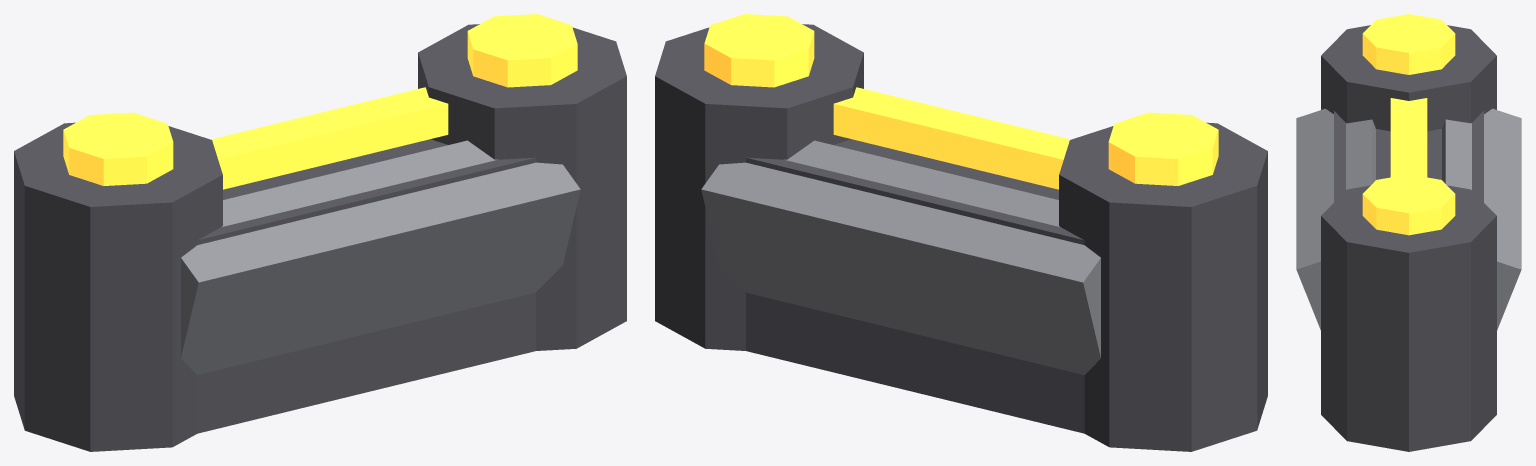
File: titanforge_wall.glb
The picture shows the model from 3 angles, left to right: view 1: azimuth 30°, elevation 25°; view 2: azimuth 150°, elevation 25°; view 3: azimuth 270°, elevation 25°; orthographic projection. The views are drawn at different scales.
Visible parts, largest first — view 1: Cube.002, Cylinder, Cylinder.001, Cube, Cube.003, Cylinder.003, Cylinder.002; view 2: Cube.001, Cylinder, Cylinder.001, Cube, Cube.003, Cylinder.003, Cylinder.002; view 3: Cylinder.001, Cylinder, Cube.001, Cube.002, Cylinder.002, Cylinder.003, Cube, Cube.003.
Part boxes in pixels (<box>): Cube.002: <box>181,140,580,374</box>; Cylinder: <box>14,122,222,451</box>; Cylinder.001: <box>418,24,626,350</box>; Cube: <box>197,139,535,433</box>; Cube.003: <box>211,87,448,189</box>; Cylinder.003: <box>467,14,577,87</box>; Cylinder.002: <box>63,112,173,185</box>; Cube.001: <box>701,140,1100,374</box>; Cylinder: <box>1059,122,1267,451</box>; Cylinder.001: <box>655,24,863,350</box>; Cube: <box>746,139,1084,433</box>; Cube.003: <box>833,87,1070,189</box>; Cylinder.003: <box>704,14,814,87</box>; Cylinder.002: <box>1108,112,1218,185</box>; Cylinder.001: <box>1321,185,1496,451</box>; Cylinder: <box>1321,25,1496,131</box>; Cube.001: <box>1442,108,1521,330</box>; Cube.002: <box>1296,108,1375,330</box>; Cylinder.002: <box>1362,14,1455,74</box>; Cylinder.003: <box>1362,174,1455,235</box>; Cube: <box>1334,111,1483,202</box>; Cube.003: <box>1390,98,1427,177</box>.
Bounding box in the file's own units: 2.4 × 1.06 × 0.9741.
